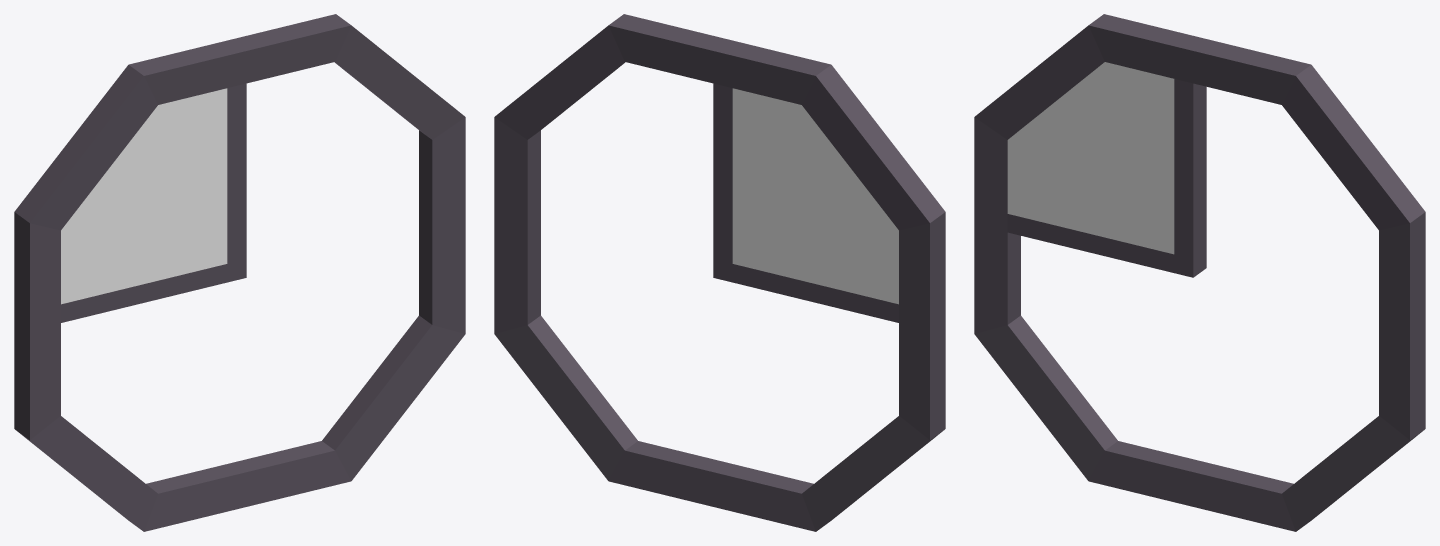
Rendered from Obstacle02.fbx.
3 views of the same model, side by side, from view 1: azimuth 30°, elevation 25°; view 2: azimuth 150°, elevation 25°; view 3: azimuth 330°, elevation 25° (orthographic).
Parts seen in each view (by area): view 1: Obstacle02; view 2: Obstacle02; view 3: Obstacle02.
Boxes of the visible parts, bbox=[...] form: Obstacle02: bbox=[14, 14, 465, 531]; Obstacle02: bbox=[494, 14, 945, 531]; Obstacle02: bbox=[974, 14, 1425, 531].
Size of the model in its own units: 49.27 by 49.27 by 3.05.
